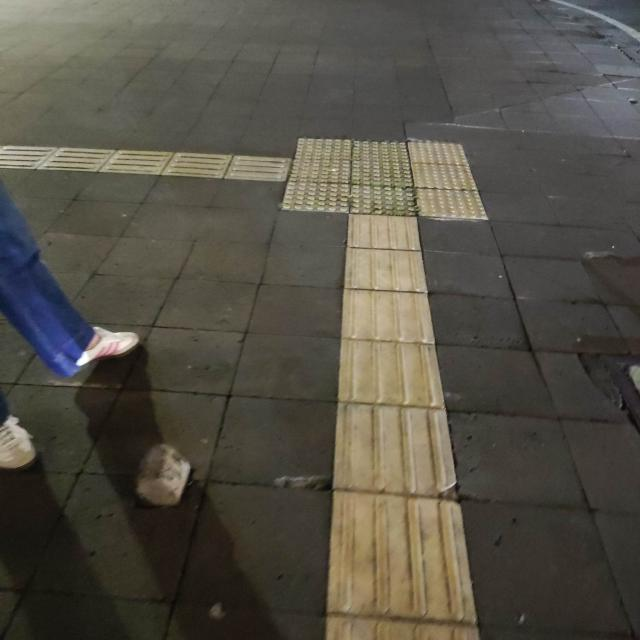kiri: (184, 107, 444, 269)
